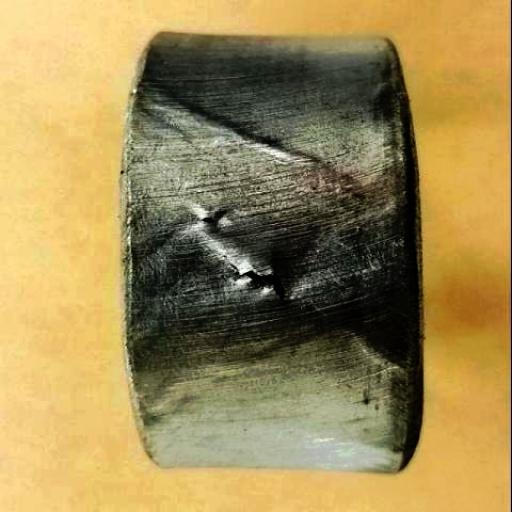crack: (231, 247, 293, 303), (187, 204, 226, 235)
